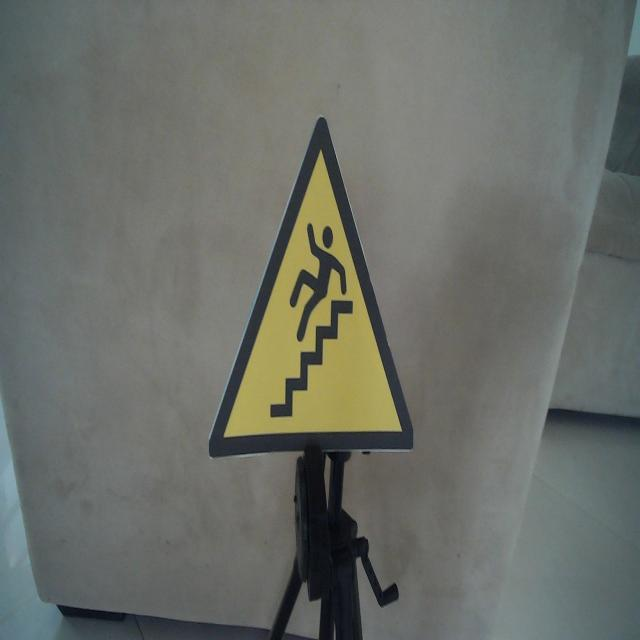stairs: (207, 111, 417, 462)
